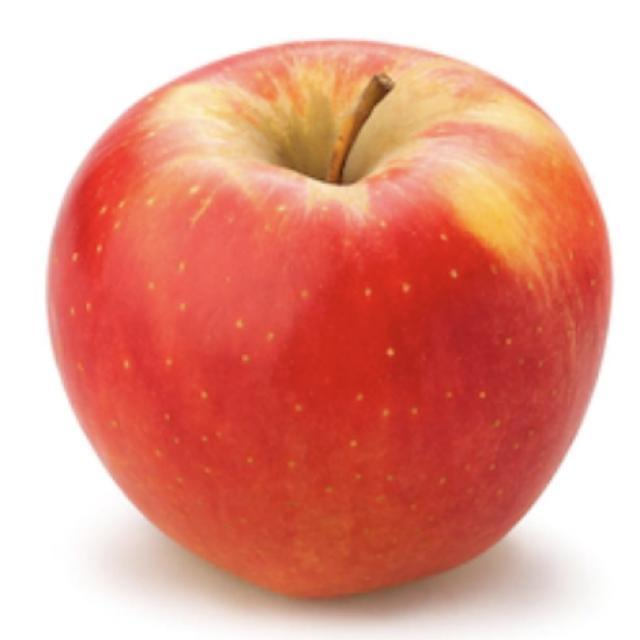Fresh Apple: (68, 34, 590, 584)
